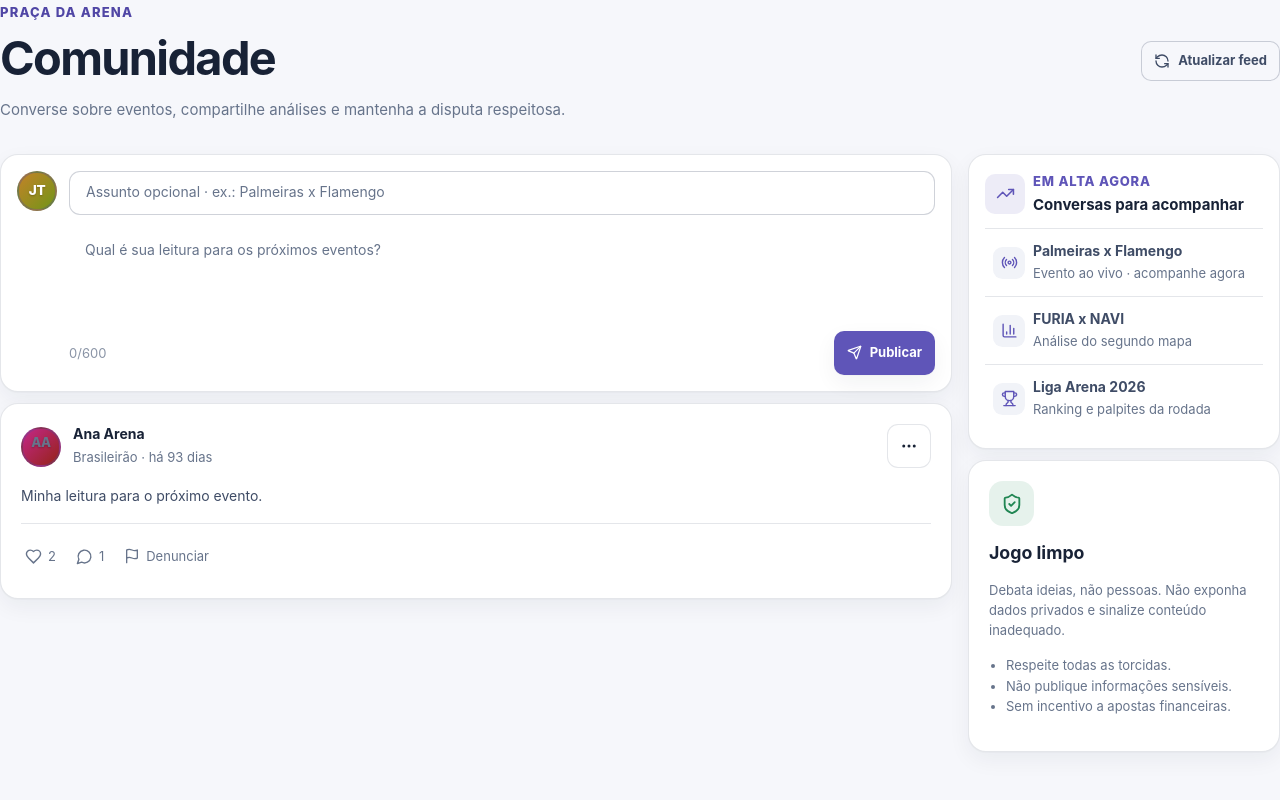
Test: página Comunidade › carrega a discussão, publica um comentário e atualiza a contagem
Click the button named "Abrir comentários de Ana Arena, 1 comentário" at coordinates (90, 556), box top-left (72, 534), bottom-right (108, 578)
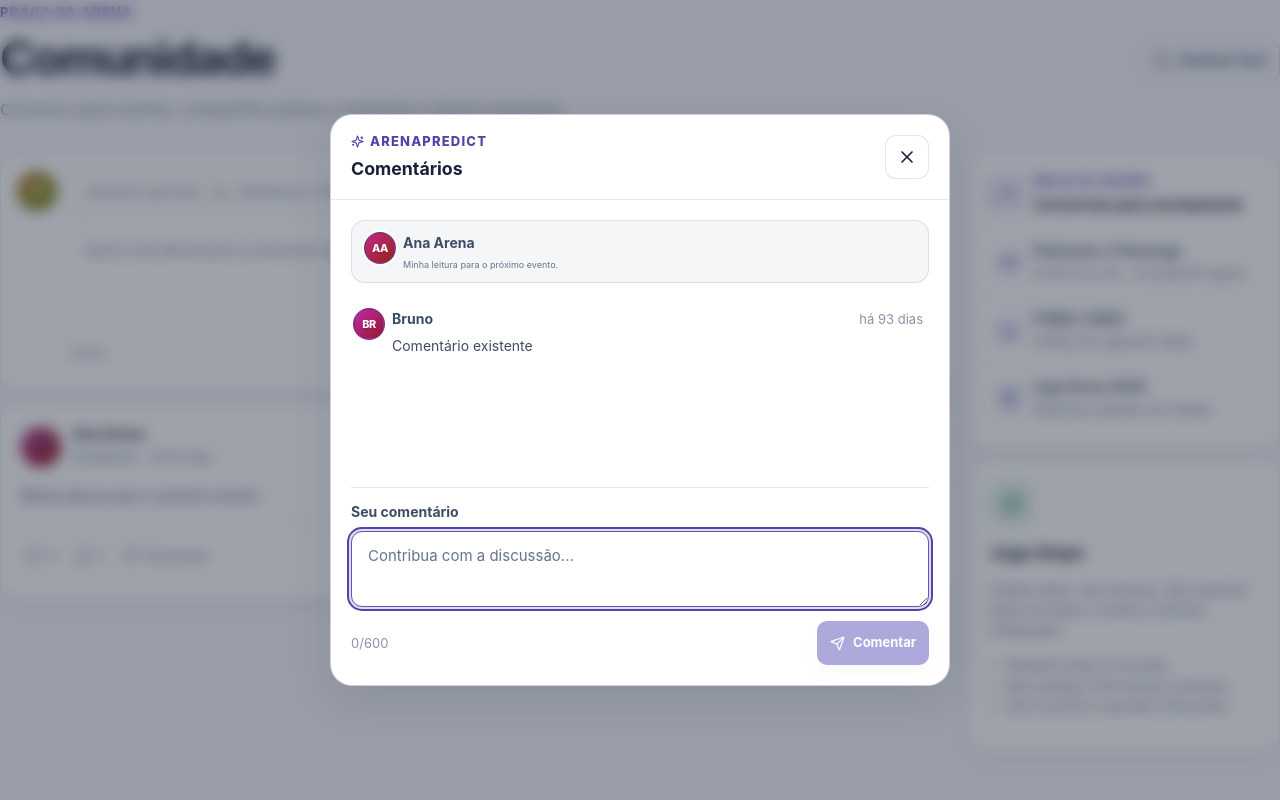
Result: the text "Comentário existente" is shown at top-left (392, 337), bottom-right (533, 354)
Result: the button "Comentar" is disabled at top-left (817, 621), bottom-right (929, 665)
Type "Concordo com essa análise." into the text box labelled "Seu comentário" at coordinates (640, 569), box top-left (351, 531), bottom-right (929, 607)
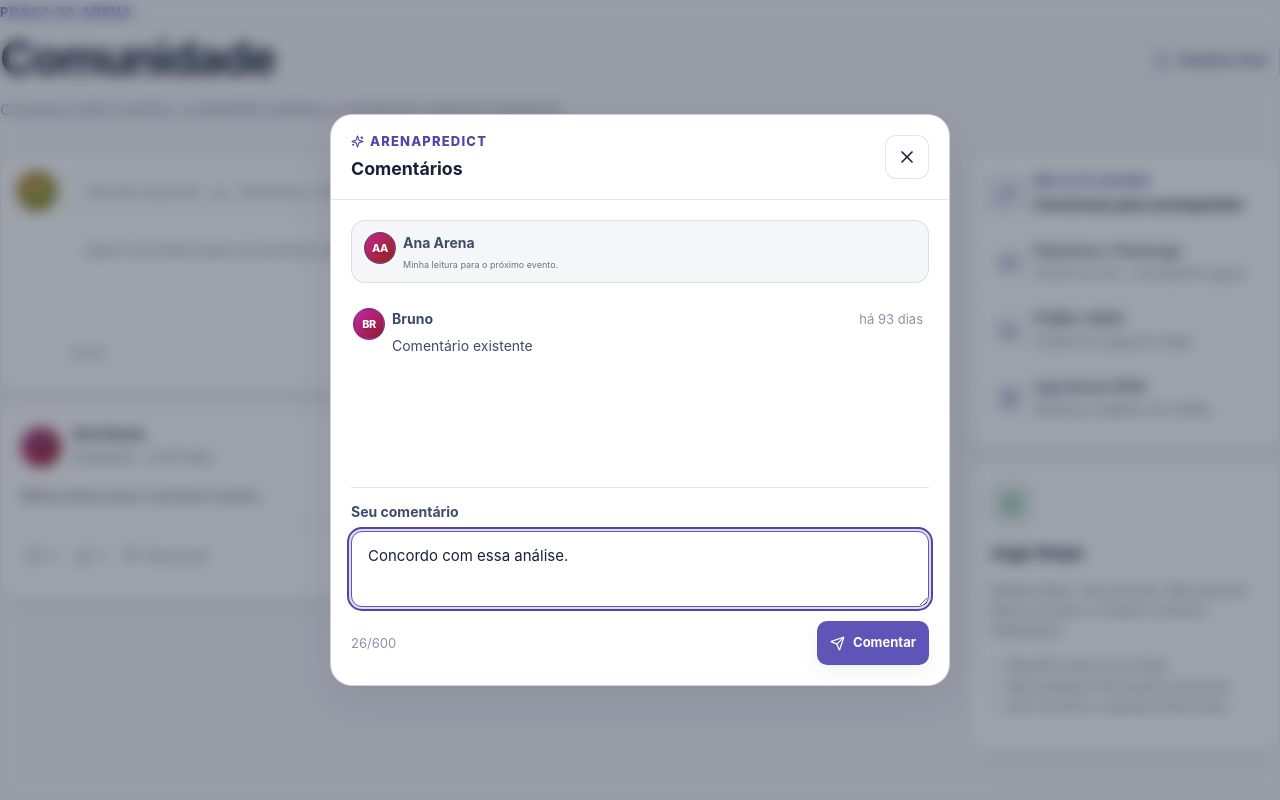
Click the button "Comentar" at coordinates (873, 643), box top-left (817, 621), bottom-right (929, 665)
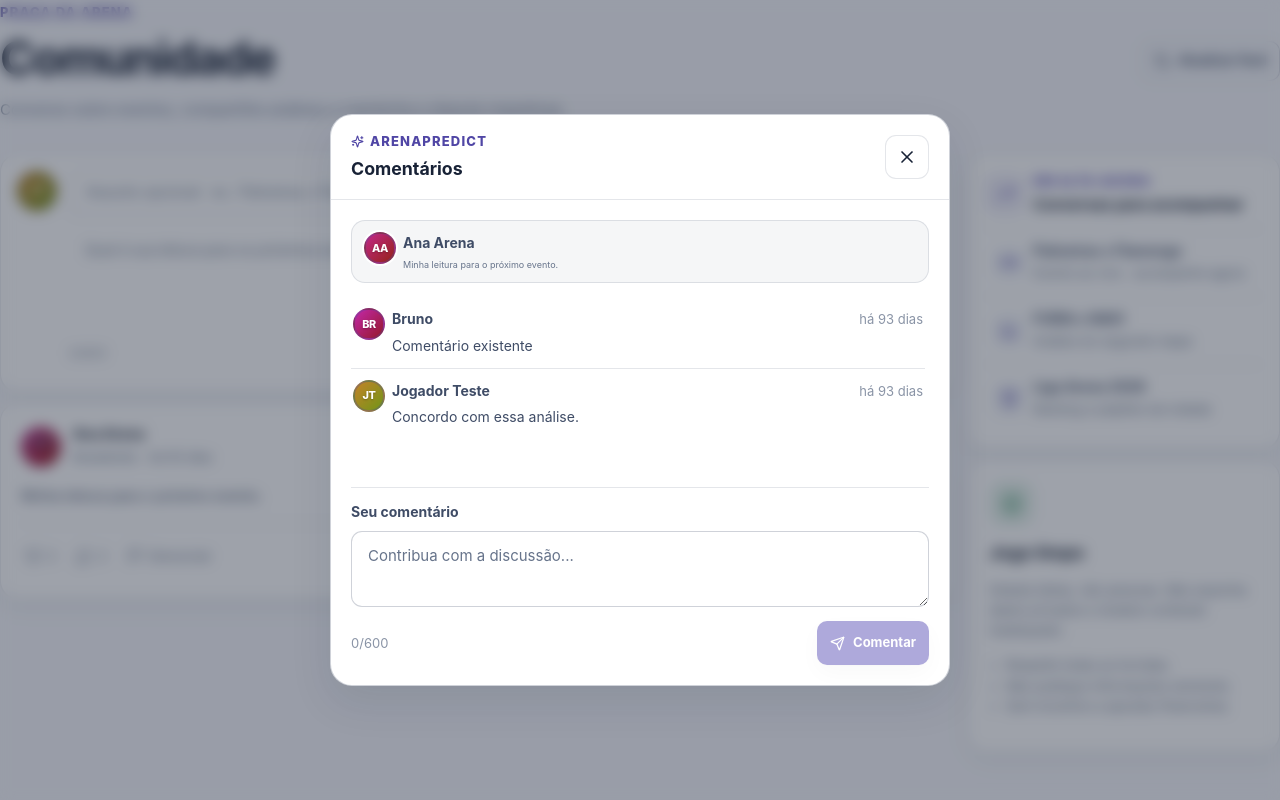
Result: the text "Concordo com essa análise." is shown at top-left (392, 408), bottom-right (579, 425)
